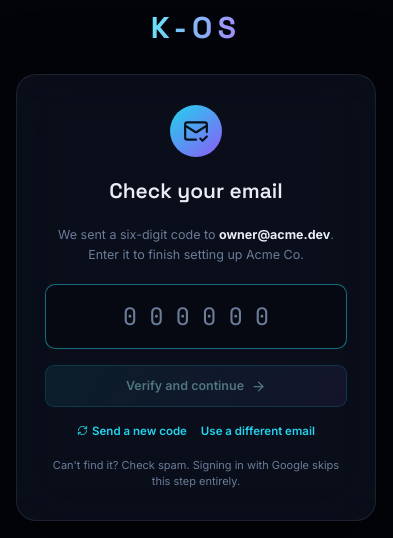
Scenario: the verification gate › keeps the button disabled until six digits are present
Check: the button "Verify and continue" is disabled, box [45, 365, 347, 407]
Type "1234" into the field with test id "verify-code" at (196, 317), box [59, 294, 333, 339]
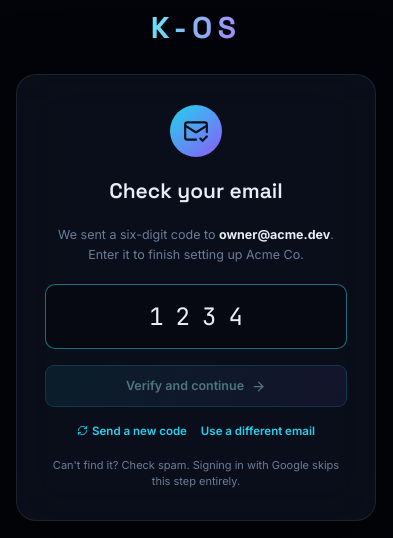
Check: the button "Verify and continue" is disabled, box [45, 365, 347, 407]
Replace the text in the field with test id "verify-code" with "123456" at (196, 317), box [59, 294, 333, 339]
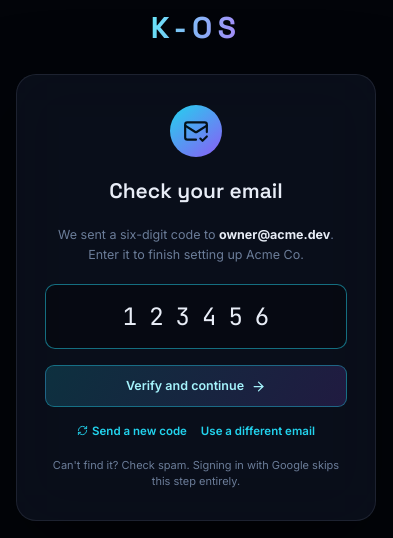
Check: the button "Verify and continue" is enabled, box [45, 365, 347, 407]
